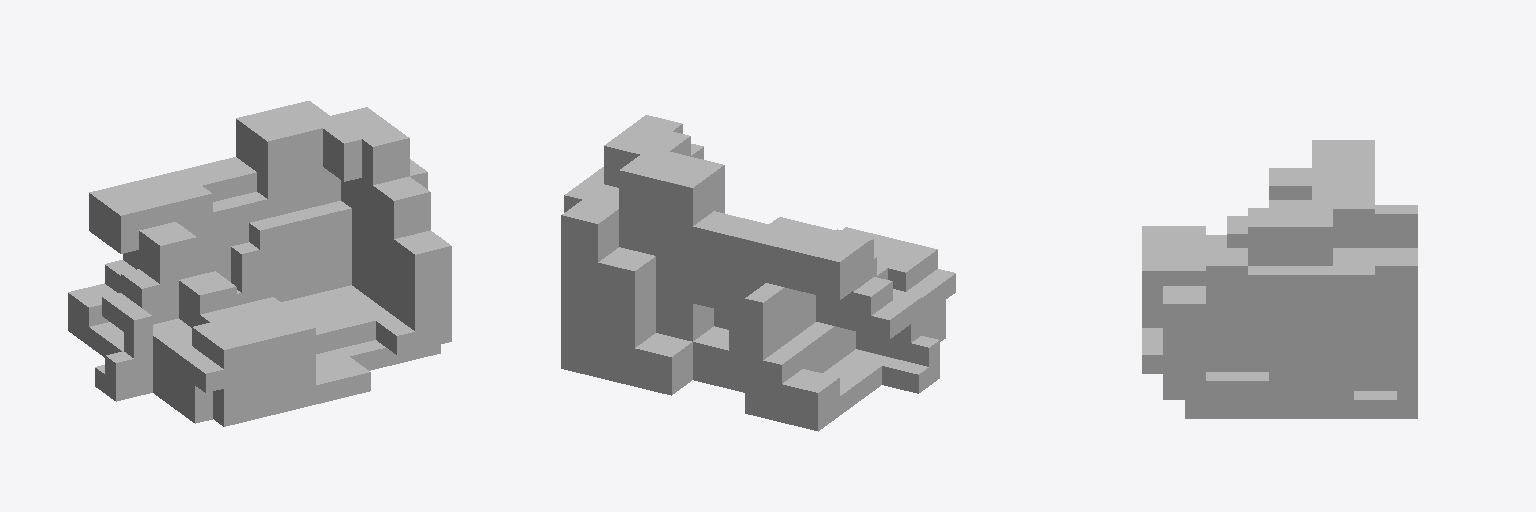
The model's file is kamien 5.obj.
The picture shows the model from 3 angles: view 1: azimuth 30°, elevation 25°; view 2: azimuth 150°, elevation 25°; view 3: azimuth 270°, elevation 25°; orthographic projection.
Visible parts, largest first — view 1: object 1; view 2: object 1; view 3: object 1.
Boxes of the visible parts, x1=… form: object 1: x1=68, y1=101, x2=451, y2=426; object 1: x1=561, y1=115, x2=955, y2=431; object 1: x1=1142, y1=140, x2=1417, y2=418.
Size of the model in its own units: 1.7 by 1 by 1.3.